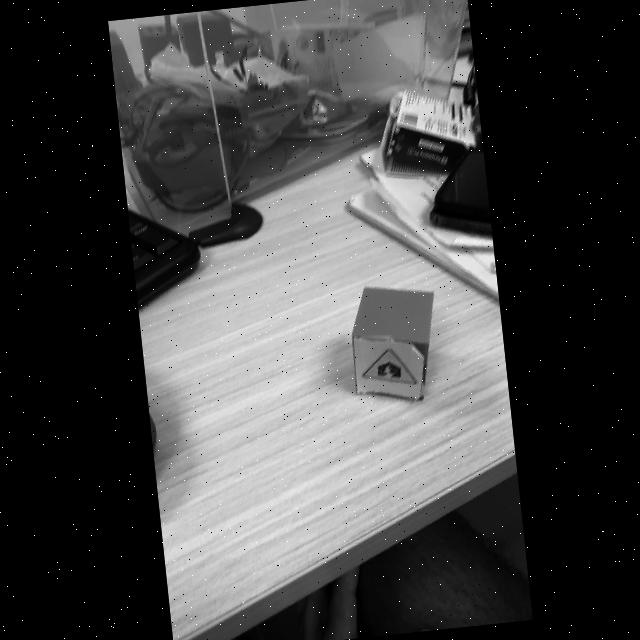Earthquake: (362, 347, 416, 384)
